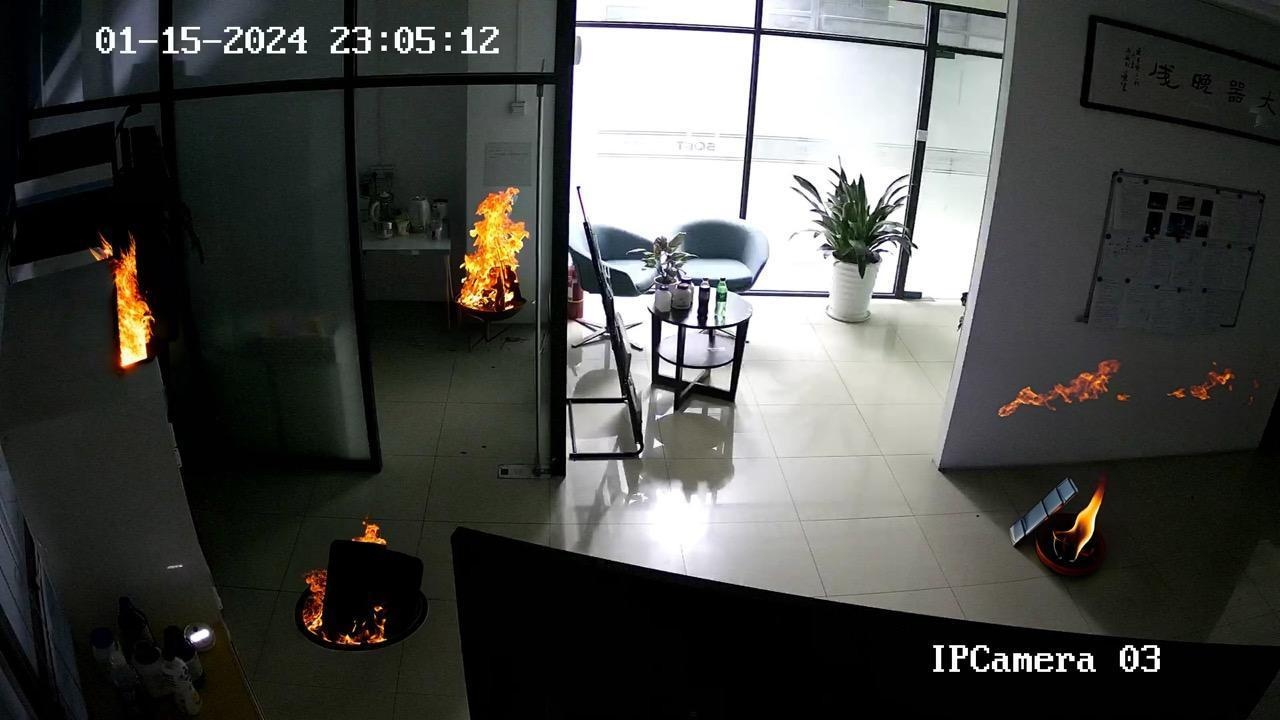fire: (992, 347, 1241, 426), (298, 527, 424, 676), (456, 177, 564, 342), (88, 221, 181, 386), (1054, 471, 1111, 596)
